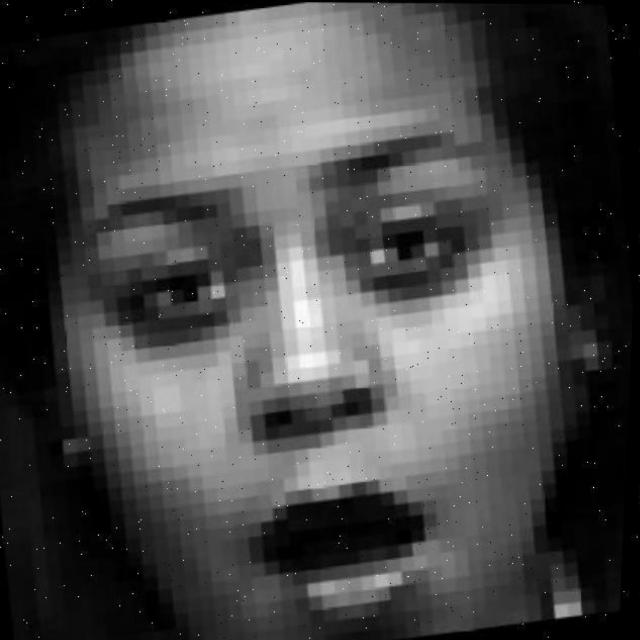Surprised: (25, 114, 583, 640)
